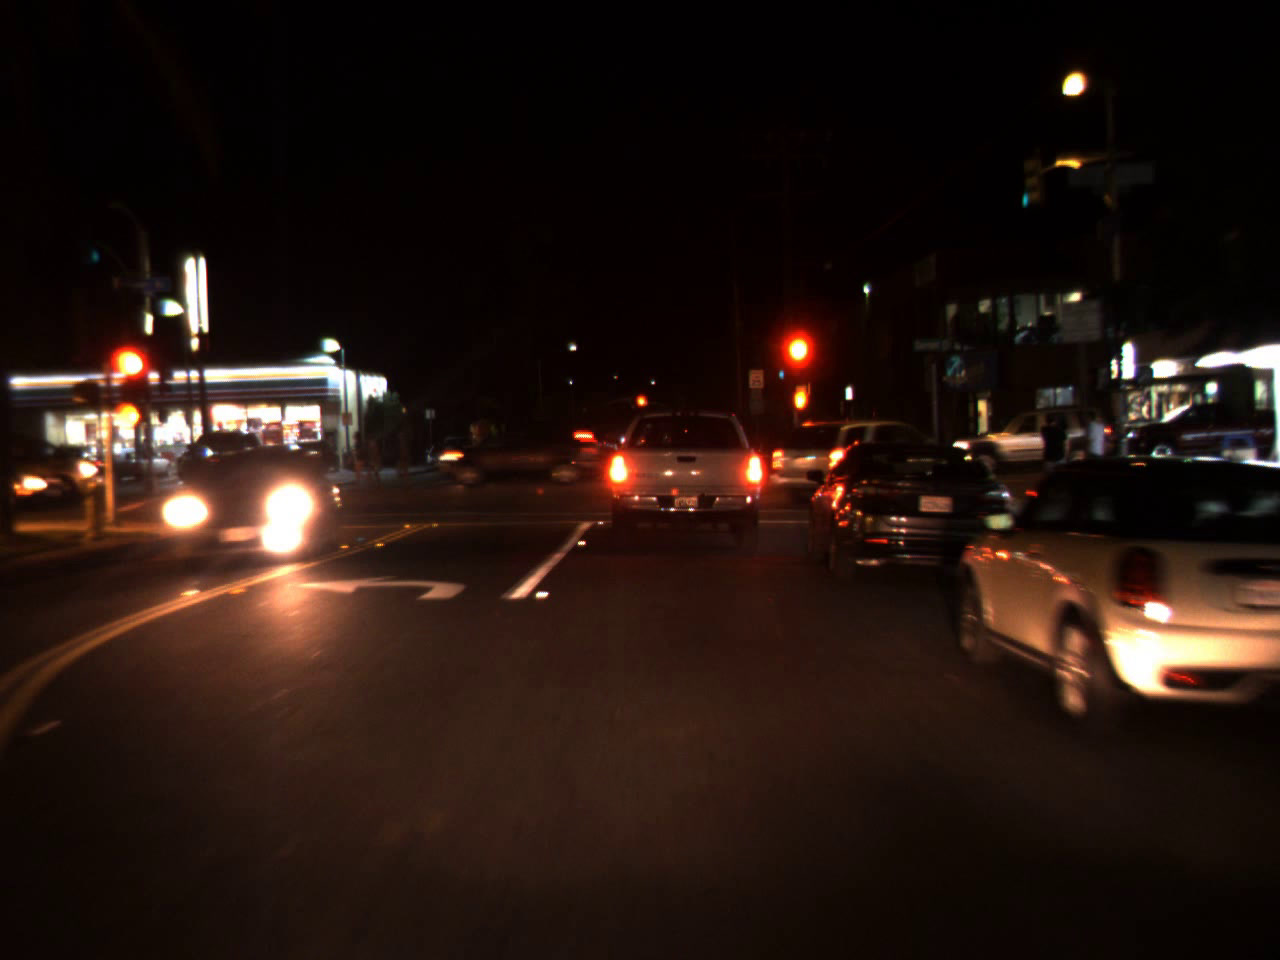stop: (111, 342, 154, 419), (778, 332, 812, 388), (636, 393, 648, 419)
